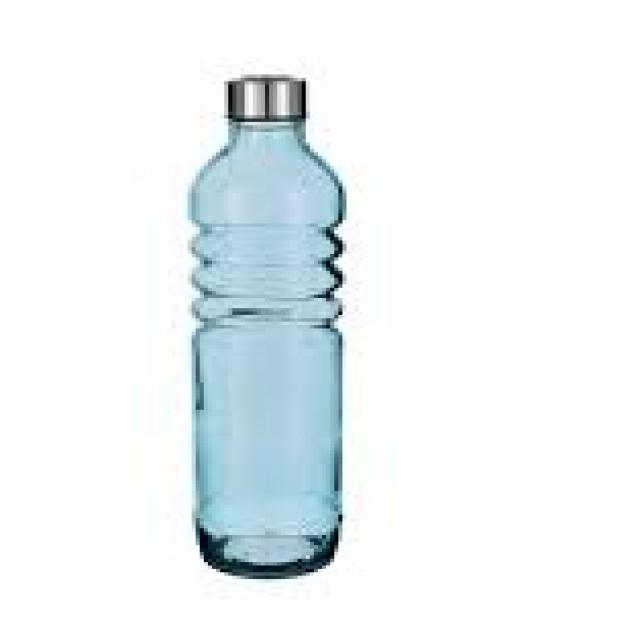organic: (140, 61, 400, 596)
